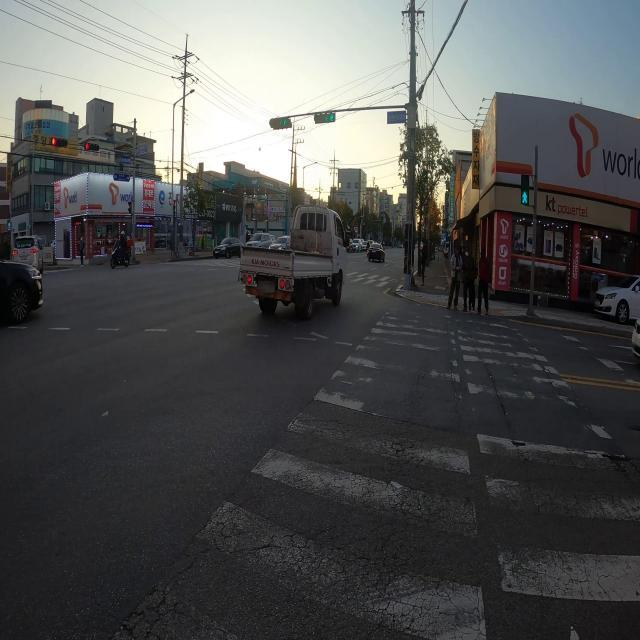crosswalk: (111, 297, 640, 640), (162, 259, 400, 288)
